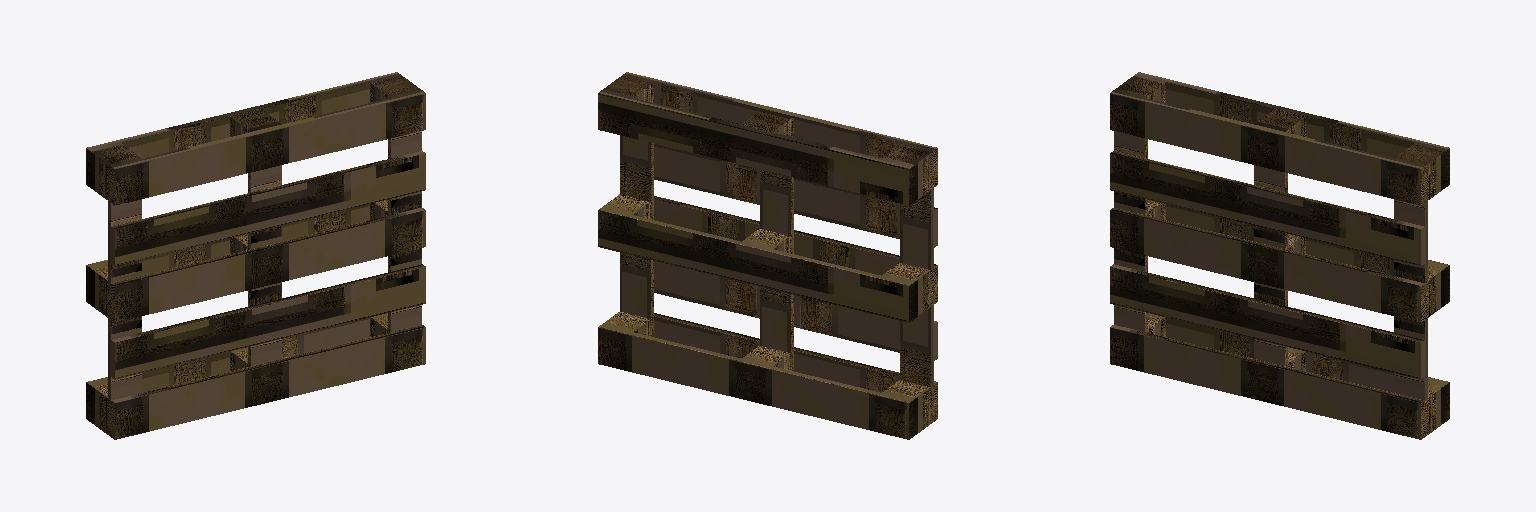
3 views of the same model, side by side, from view 1: azimuth 30°, elevation 25°; view 2: azimuth 150°, elevation 25°; view 3: azimuth 330°, elevation 25° (orthographic).
Parts seen in each view (by area): view 1: pallet2_Pallet; view 2: pallet2_Pallet; view 3: pallet2_Pallet.
Boxes of the visible parts, box(x1,y1,x2,y2) form: pallet2_Pallet: box(86, 72, 425, 439); pallet2_Pallet: box(598, 72, 937, 439); pallet2_Pallet: box(1110, 72, 1449, 439).
Size of the model in its own units: 1.21 by 1.01 by 0.1934.
Materials: 1 (1 with a texture image).